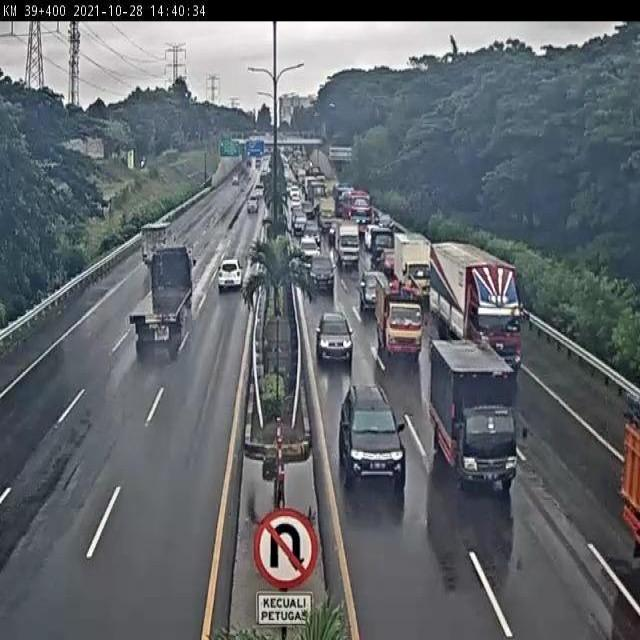big truck: (130, 248, 192, 349)
car: (341, 385, 402, 479), (315, 311, 351, 365), (306, 253, 334, 295), (359, 272, 388, 308), (218, 255, 245, 293)
small truck: (142, 220, 176, 267)
truck-l-: (429, 242, 523, 362)
truck-m-: (430, 338, 520, 491), (372, 276, 424, 355), (393, 231, 433, 296)
truck-s-: (335, 222, 363, 266)
